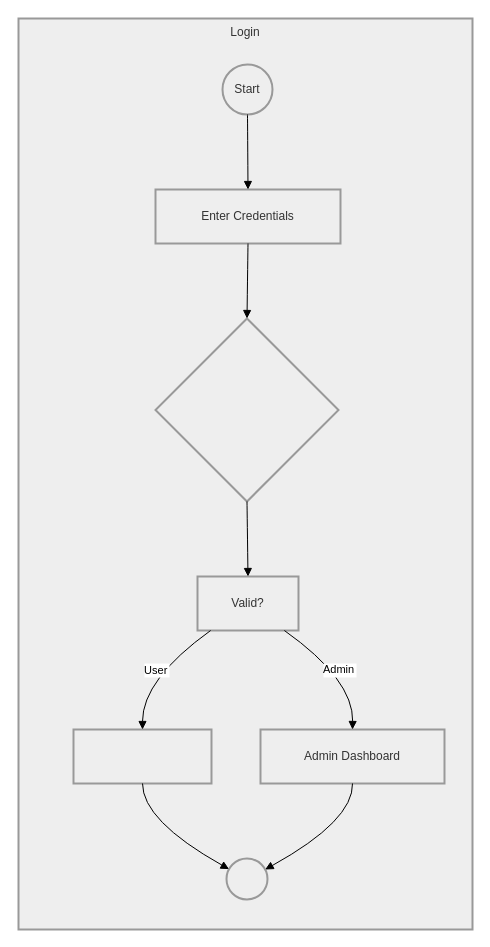
Some shapes in this 490 by 947 pixel diagram are drawn without their labels. Each missing label, with the centre of its shape:
Check Credentials: [246,409]
End: [246,878]
User Home: [142,756]
